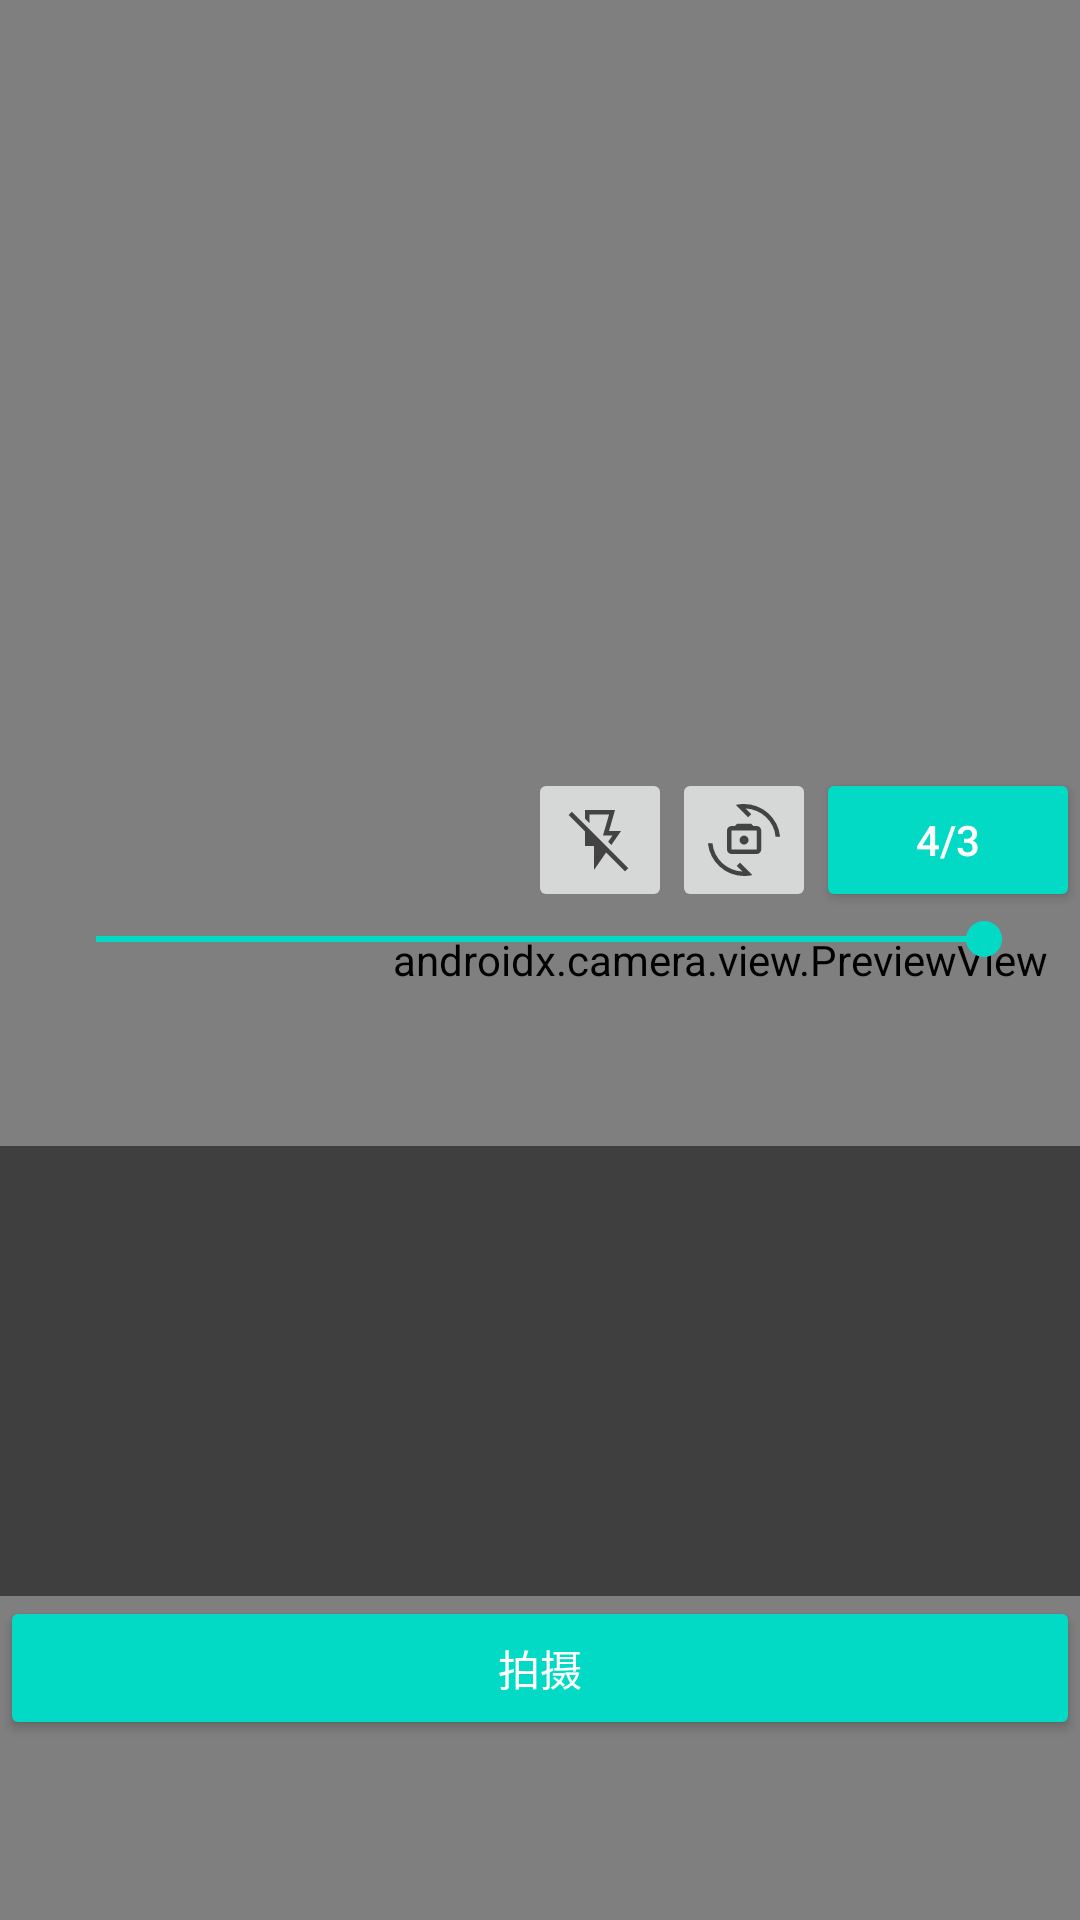

Screen size 1080*1920. Icon name, then its box in pixels as {"left": x1, "top": y1, "right": x2, "bottom": y2}:
cameraswitch: {"left": 684, "top": 786, "right": 804, "bottom": 894}
flash off: {"left": 540, "top": 786, "right": 660, "bottom": 894}
